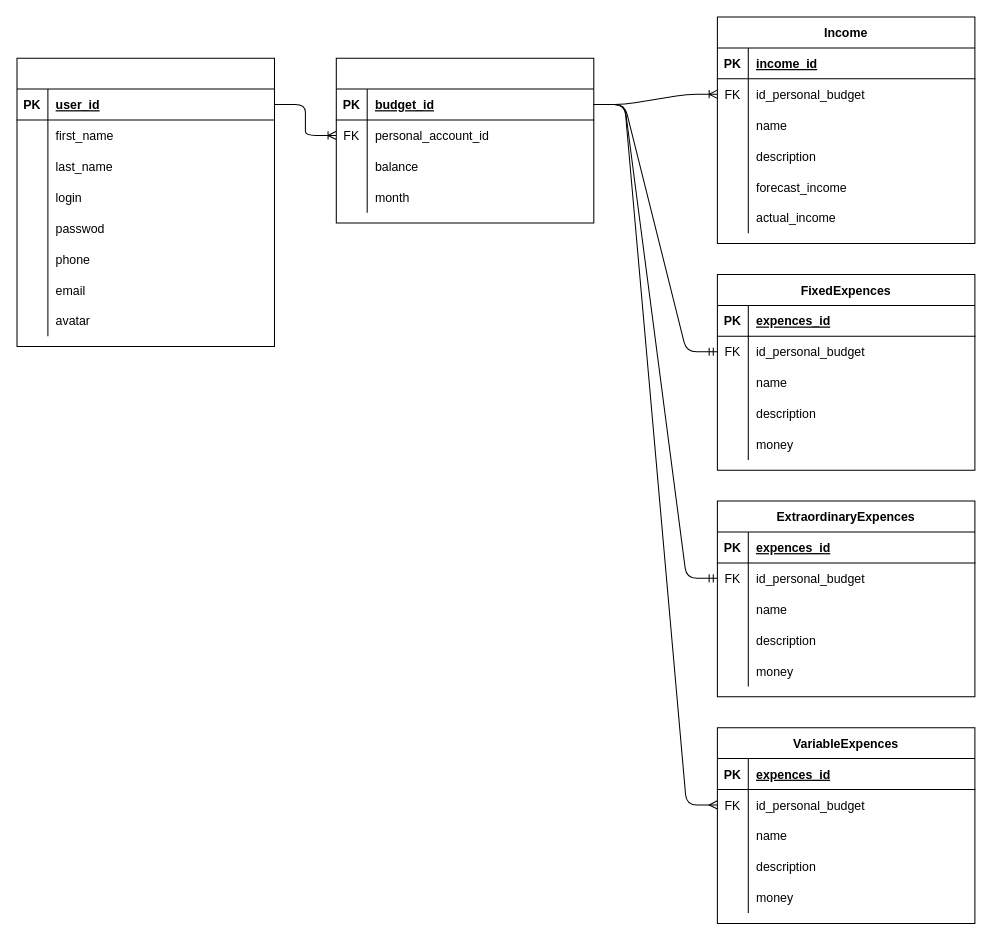
The diagram is 992 pixels wide and 940 high, and some of its shapes have lost their labels. The shapes that lost their labels are listed below. From the top down, each one's box as (x1, y1, x2, y2) in pixels, then its label:
(335, 57, 594, 223): personal_budget
(16, 57, 274, 347): personal_account
